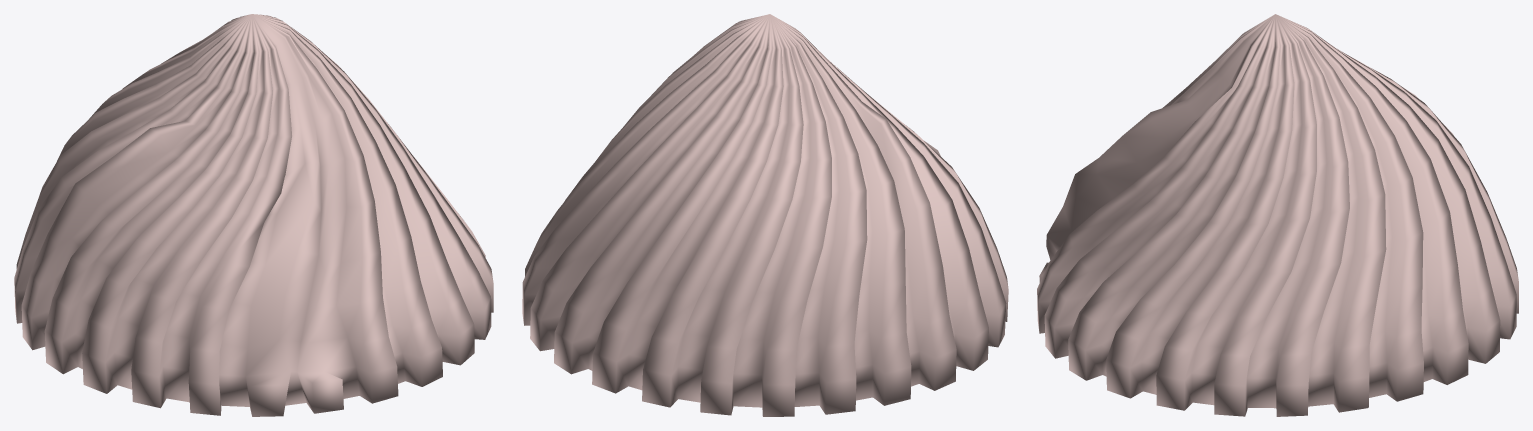
File: cream-screw.glb
3 views of the same model, side by side, from view 1: azimuth 30°, elevation 25°; view 2: azimuth 150°, elevation 25°; view 3: azimuth 270°, elevation 25° (orthographic).
Visible parts, largest first — view 1: cream; view 2: cream; view 3: cream.
Part boxes in pixels (box(x1,y1,x2,y2)): cream: box(14, 14, 493, 416); cream: box(522, 14, 1008, 416); cream: box(1037, 14, 1518, 416).
Size of the model in its own units: 11.12 by 7.77 by 11.09.
